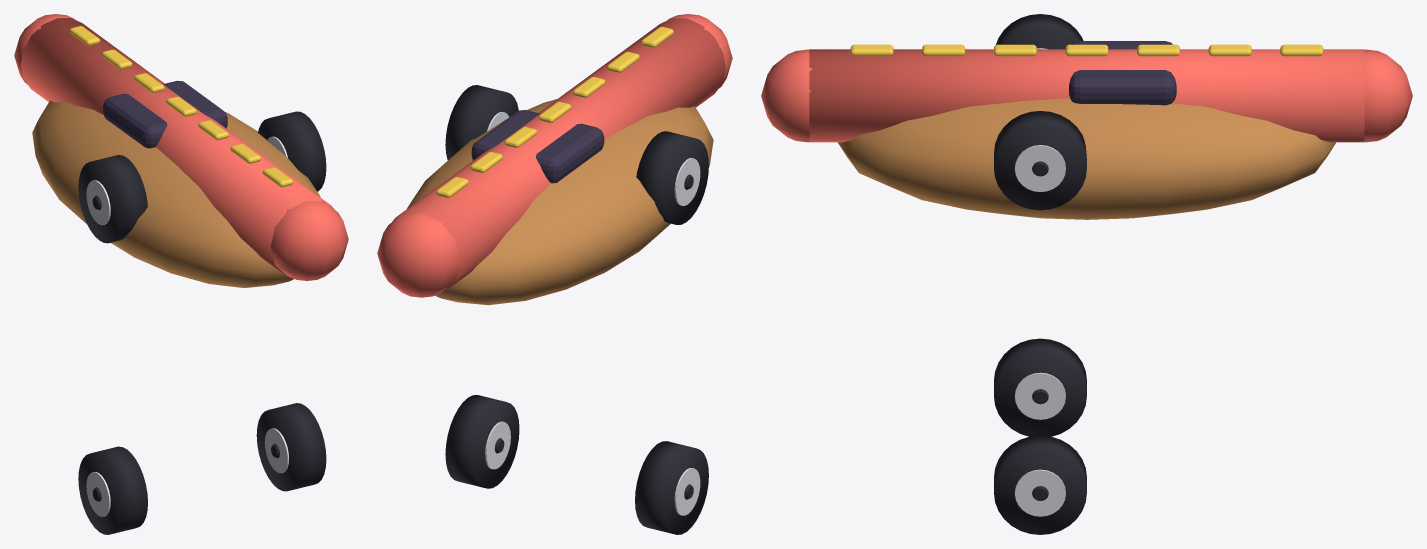
File: Car_HotDog.fbx
The picture shows the model from 3 angles, left to right: view 1: azimuth 30°, elevation 25°; view 2: azimuth 150°, elevation 25°; view 3: azimuth 270°, elevation 25°; orthographic projection. The views are drawn at different scales.
Parts seen in each view (by area): view 1: Car_HotDog, Wheel_FR, Wheel_FL, Wheel_RL, Wheel_RR; view 2: Car_HotDog, Wheel_FR, Wheel_FL, Wheel_RL, Wheel_RR; view 3: Car_HotDog, Wheel_RR, Wheel_FR, Wheel_FL, Wheel_RL.
Boxes of the visible parts, x1,y1,x2,y2 form: Car_HotDog: (14, 14, 348, 287); Wheel_FR: (256, 403, 326, 491); Wheel_FL: (78, 446, 147, 534); Wheel_RL: (78, 155, 147, 243); Wheel_RR: (258, 111, 326, 191); Car_HotDog: (377, 14, 732, 305); Wheel_FR: (445, 395, 519, 488); Wheel_FL: (635, 441, 708, 534); Wheel_RL: (636, 131, 708, 224); Wheel_RR: (445, 85, 518, 160); Car_HotDog: (761, 41, 1412, 219); Wheel_RR: (994, 111, 1086, 210); Wheel_FR: (994, 435, 1086, 534); Wheel_FL: (994, 338, 1086, 436); Wheel_RL: (996, 14, 1083, 49).
Bounding box in the file's own units: 0.766 × 1.33 × 1.82.
